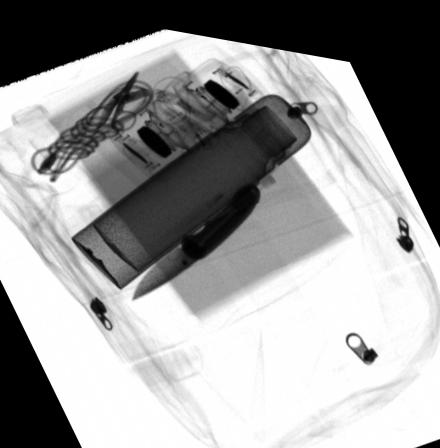Knife: (131, 173, 261, 297)
Scissors: (85, 66, 139, 128)
